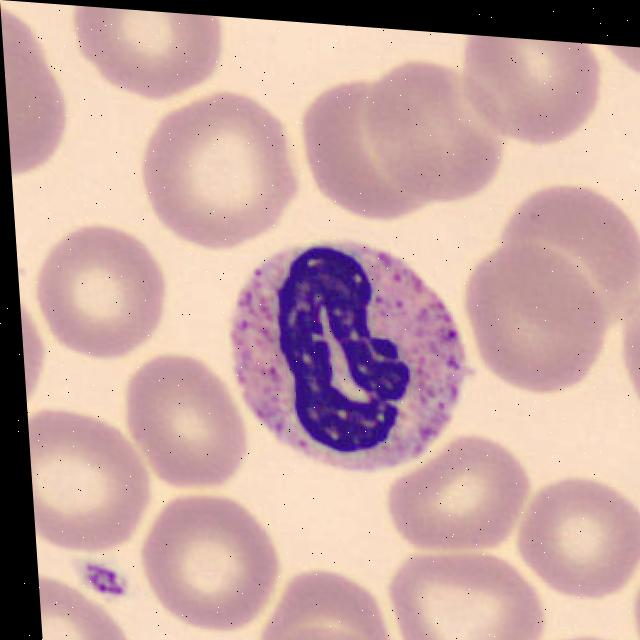neutrophil: (219, 225, 474, 486)
platelets: (81, 555, 134, 603)
rbc: (140, 96, 297, 256), (463, 243, 618, 399), (383, 430, 534, 564), (360, 61, 498, 202), (27, 411, 163, 550), (139, 497, 271, 638), (294, 81, 428, 217), (122, 357, 261, 485), (496, 191, 638, 315), (501, 487, 640, 600), (461, 34, 596, 150), (39, 221, 160, 346), (72, 5, 232, 94), (0, 1, 76, 177), (383, 554, 536, 640), (256, 568, 388, 640), (38, 571, 140, 640), (20, 304, 64, 403), (620, 267, 640, 417), (625, 556, 640, 640), (602, 45, 640, 78), (521, 638, 640, 640)
